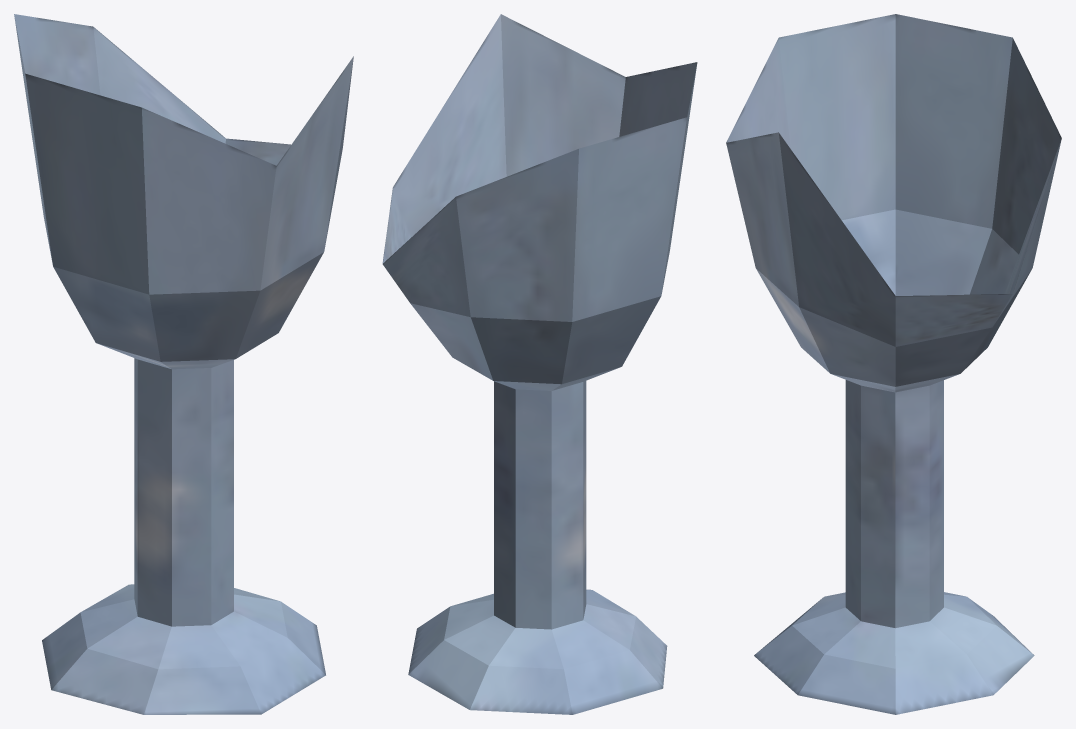
Rendered from BrokenGlassCup.fbx.
3 renders of one model, left to right at view 1: azimuth 30°, elevation 25°; view 2: azimuth 150°, elevation 25°; view 3: azimuth 270°, elevation 25°, orthographic. The views are drawn at different scales.
Visible parts, largest first — view 1: Cube.003; view 2: Cube.003; view 3: Cube.003.
Boxes of the visible parts, <box> form: Cube.003: <box>14,14,353,714</box>; Cube.003: <box>382,14,697,714</box>; Cube.003: <box>726,14,1061,714</box>.
Bounding box in the file's own units: 8 × 15 × 8.
Materials: 1 (1 with a texture image).
